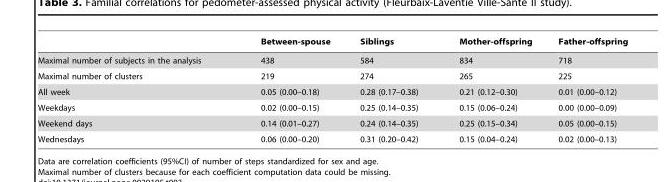table: (37, 36, 627, 143)
table column: (37, 36, 230, 143), (230, 36, 344, 143), (438, 36, 544, 143), (344, 36, 438, 143), (544, 36, 627, 143)
table column header: (37, 36, 627, 50)
table row: (37, 50, 627, 68), (37, 83, 627, 99), (37, 99, 627, 115), (37, 115, 627, 131), (37, 68, 627, 83), (37, 36, 627, 50), (37, 131, 627, 143)
